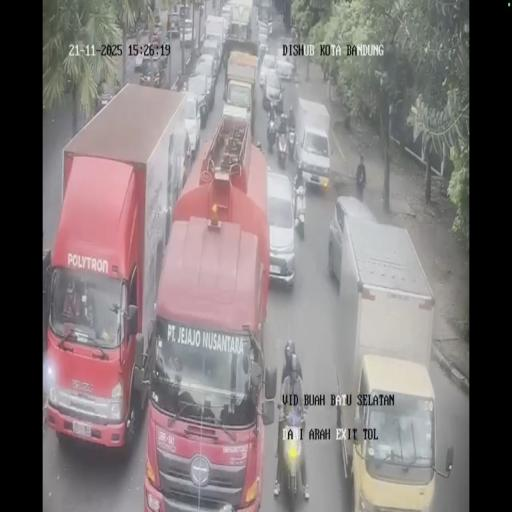car: (266, 170, 296, 290), (297, 125, 331, 191), (184, 72, 210, 133), (220, 100, 250, 150), (200, 36, 222, 80), (262, 67, 282, 107), (178, 12, 194, 45), (275, 57, 294, 82), (220, 4, 232, 34), (257, 27, 269, 55), (160, 29, 172, 53), (134, 50, 144, 71), (152, 24, 162, 43), (266, 16, 272, 36)
motorcycle: (274, 397, 308, 508), (275, 122, 289, 168), (155, 64, 167, 88), (290, 26, 297, 44)
truck: (45, 82, 194, 454), (329, 202, 440, 504), (168, 7, 180, 34)
